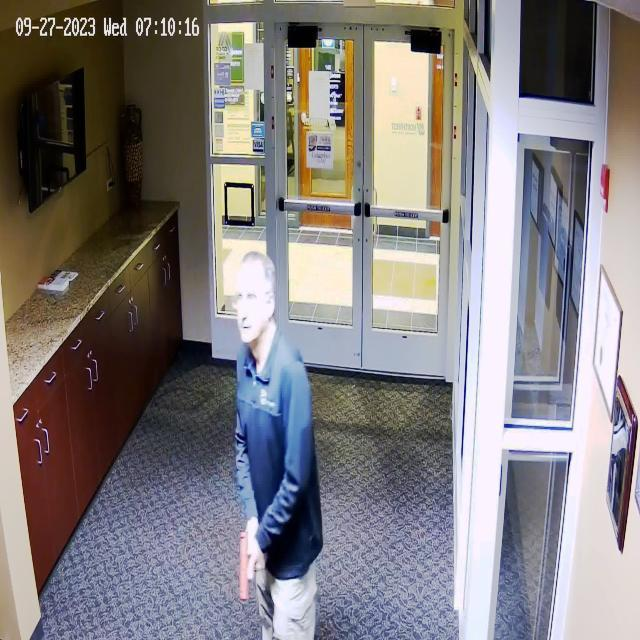Gun: (223, 522, 269, 606)
